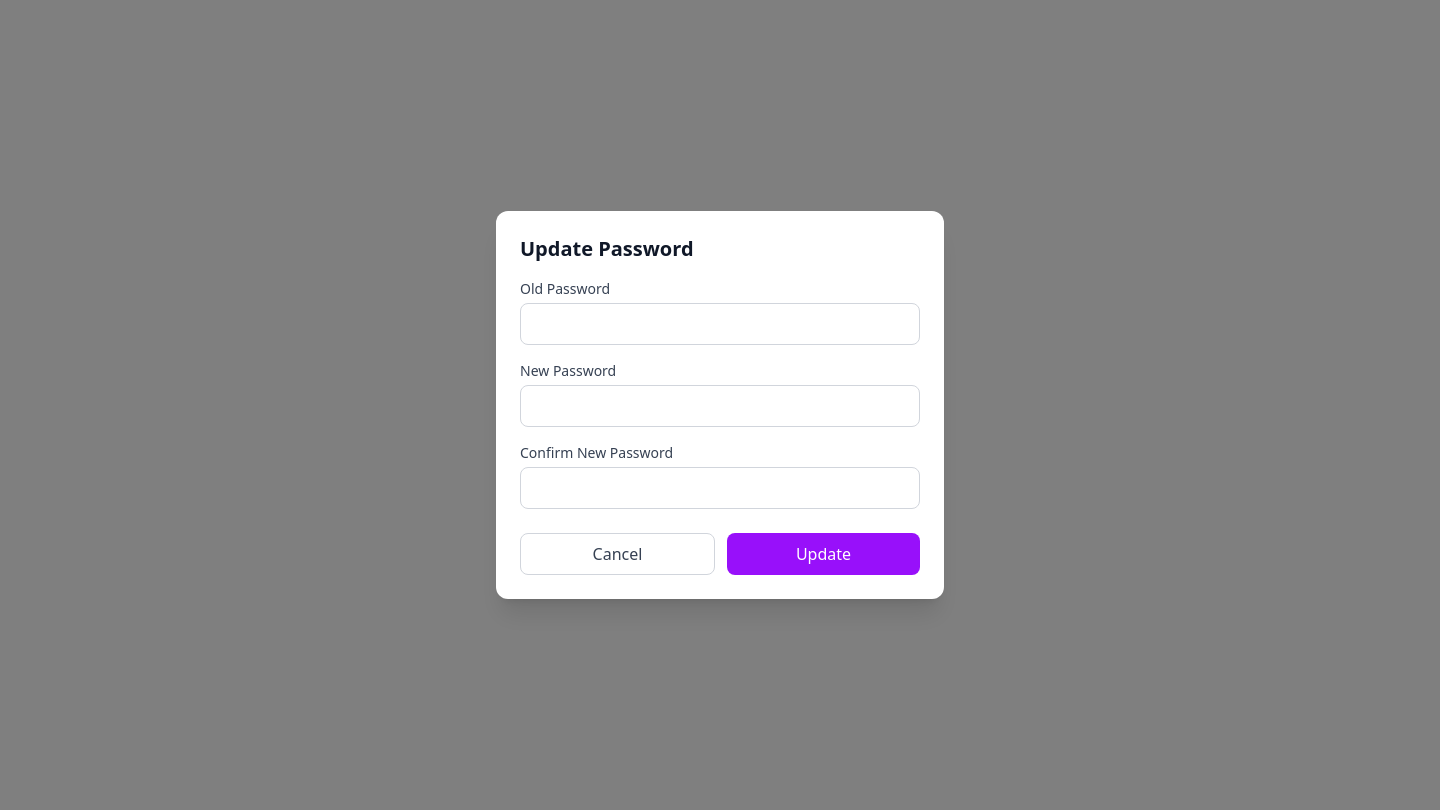
UpdatePasswordModal › shows a local error when new passwords do not match
The image size is (1440, 810).
Type "oldpass" into the password field below "Old Password" at (720, 324), box [520, 303, 920, 345]
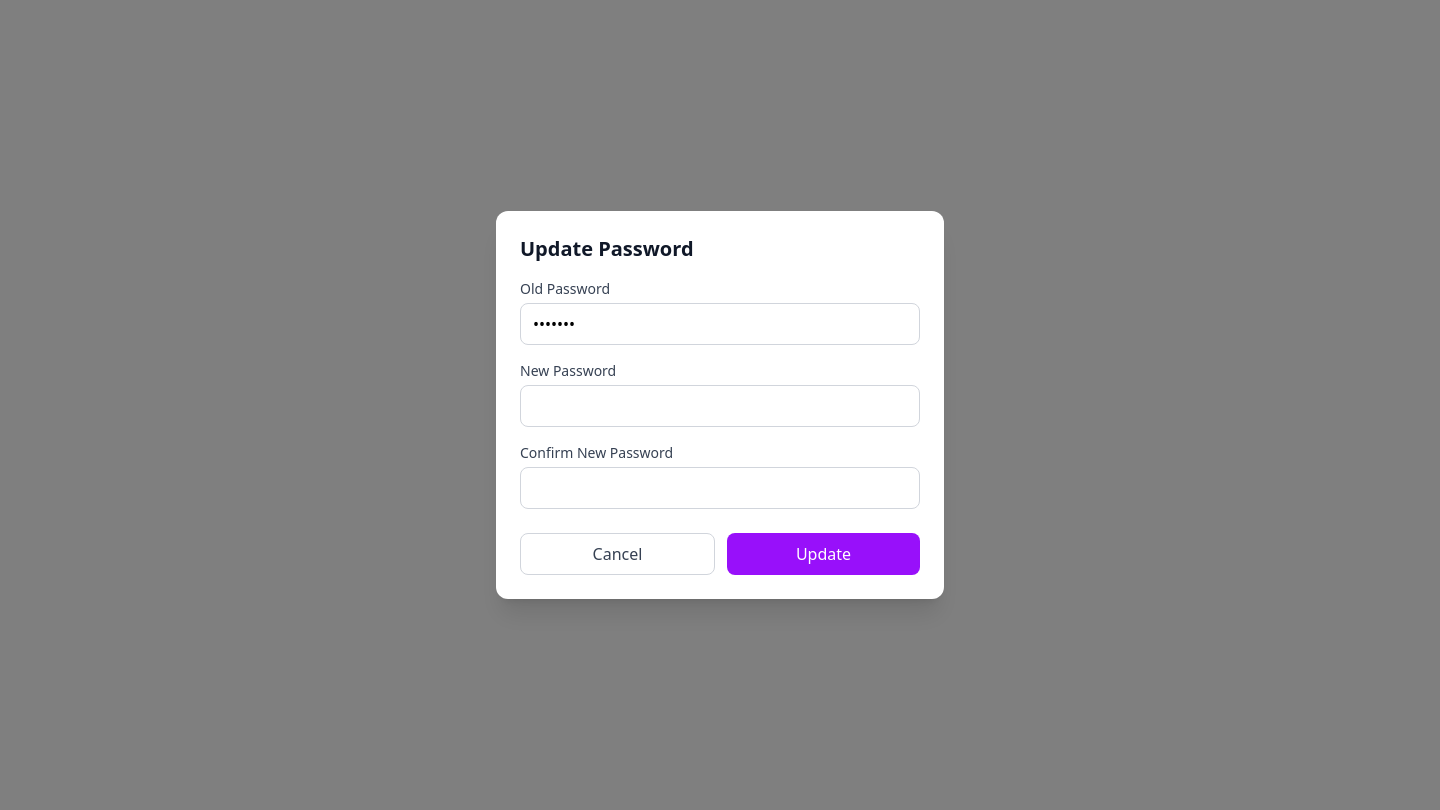
Type "newpass" into the 2nd password field at (720, 406), box [520, 385, 920, 427]
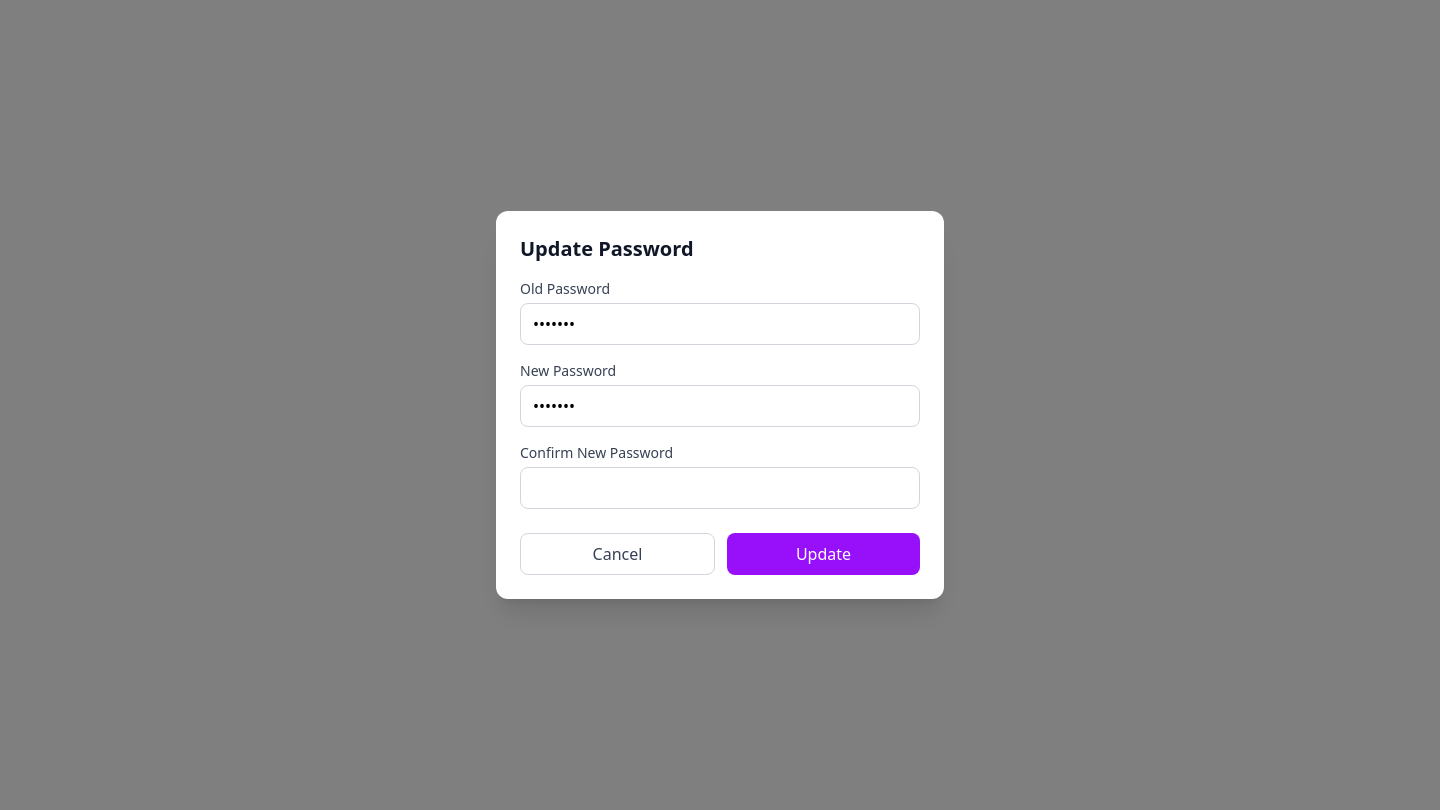
Type "different" into the password field below "Confirm New Password" at (720, 488), box [520, 467, 920, 509]
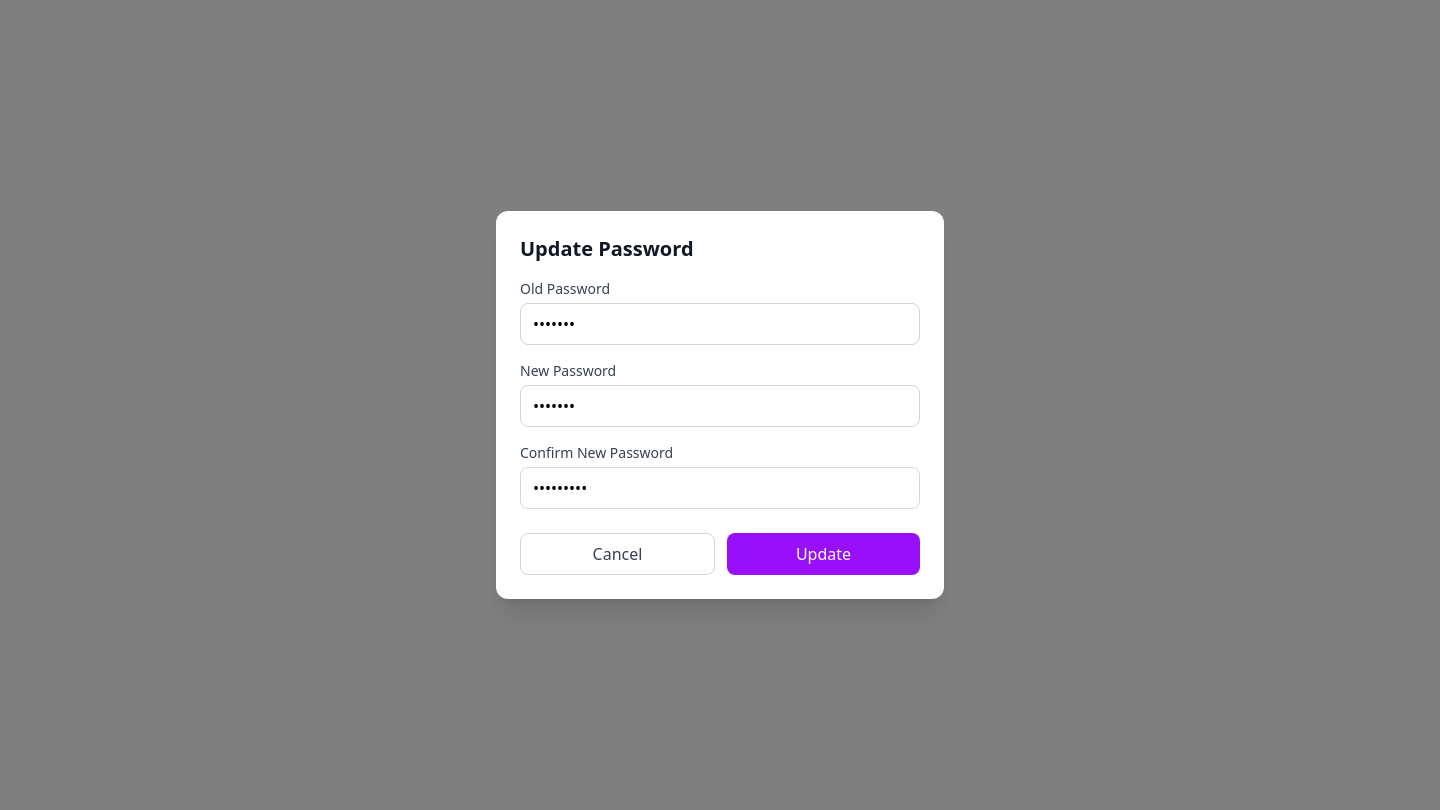
Submit the form, box [520, 279, 920, 575]
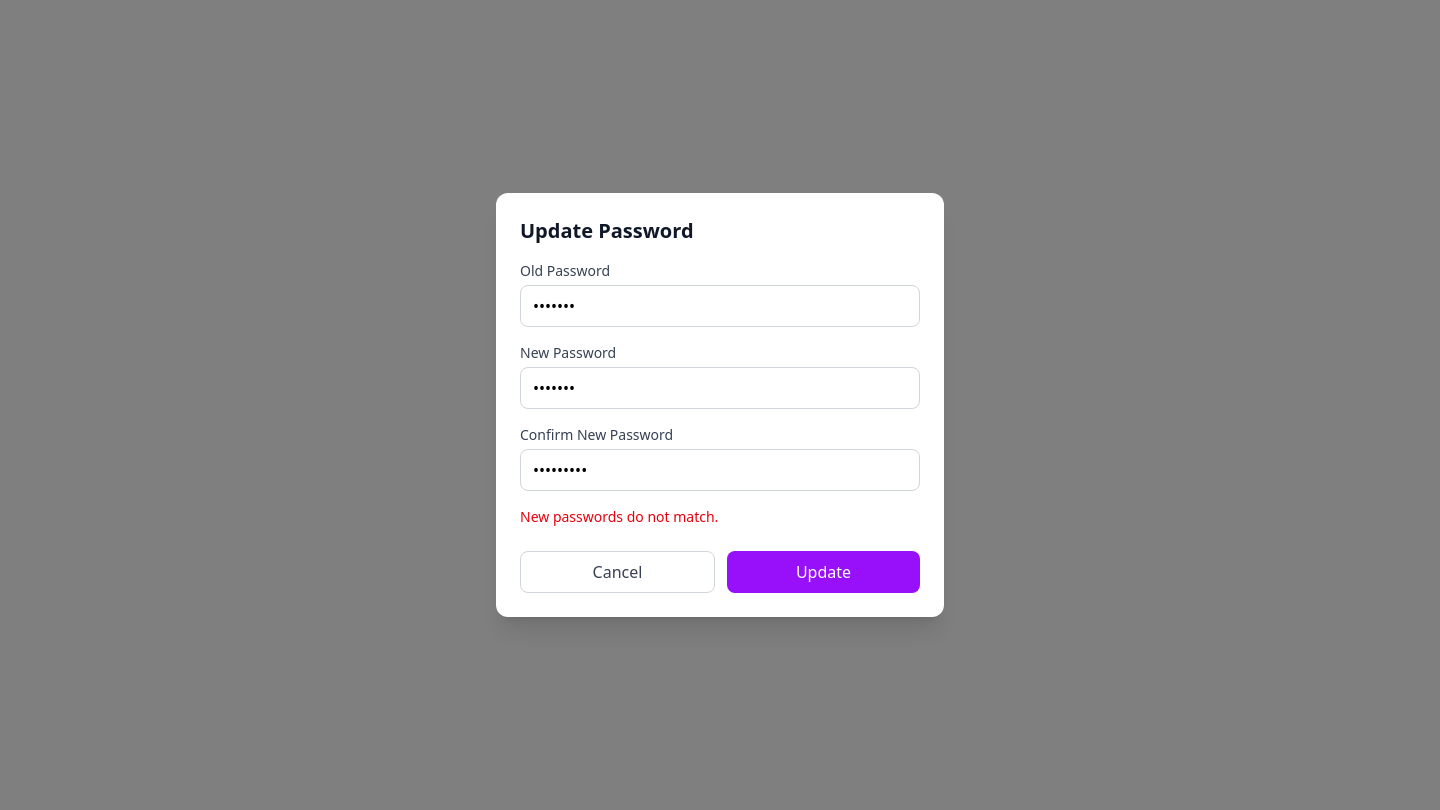
Check: the text "New passwords do not match." is shown, box [520, 507, 718, 526]
